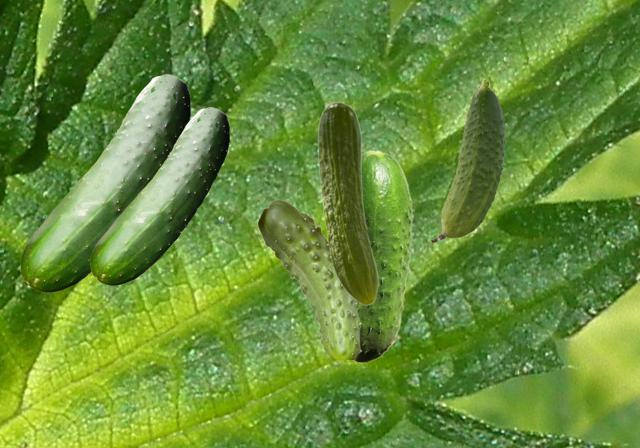cucumber: (20, 74, 189, 291), (90, 107, 228, 284), (257, 199, 361, 358), (350, 149, 413, 362), (317, 101, 378, 305), (431, 78, 505, 241)
